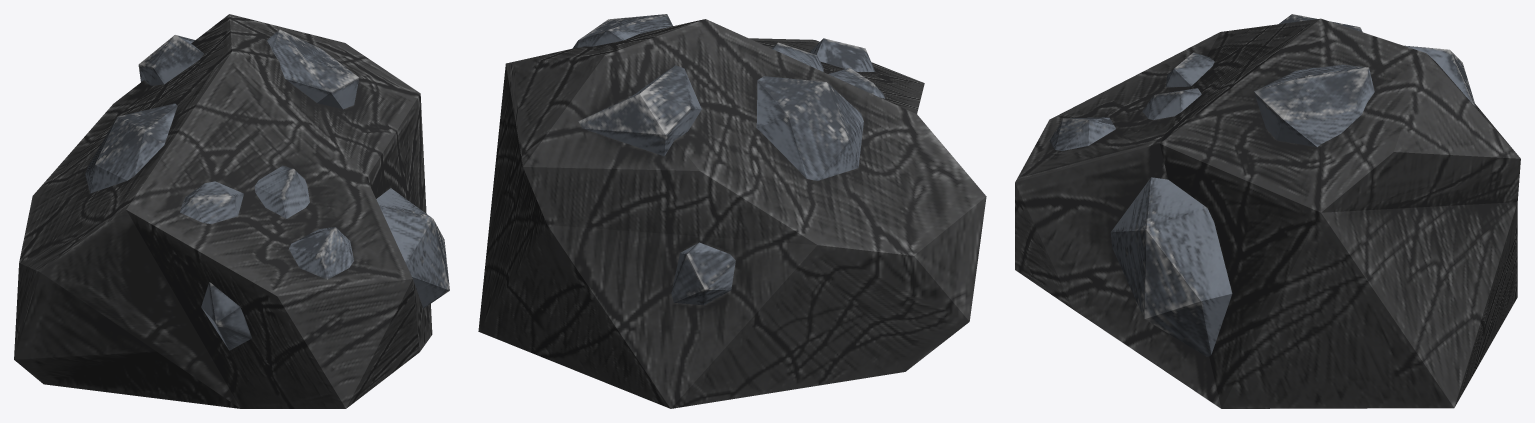
File: iron.glb
The picture shows the model from 3 angles, left to right: view 1: azimuth 30°, elevation 25°; view 2: azimuth 150°, elevation 25°; view 3: azimuth 270°, elevation 25°; orthographic projection. The views are drawn at different scales.
Parts seen in each view (by area): view 1: iron; view 2: iron; view 3: iron.
Part boxes in pixels (box(x1,y1,x2,y2)): iron: box(14, 14, 449, 408); iron: box(478, 14, 986, 408); iron: box(1015, 14, 1520, 408).
Bounding box in the file's own units: 0.7885 × 0.6 × 0.7591.
Materials: 1 (1 with a texture image).
